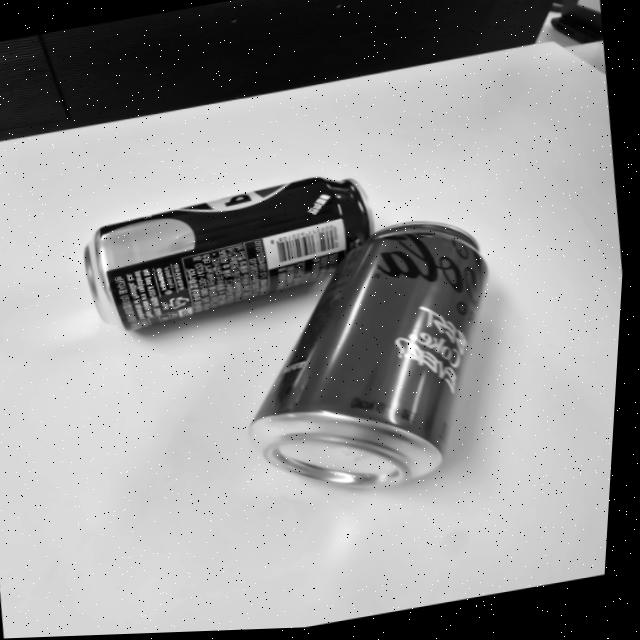can_coke_zero: (244, 220, 490, 495)
can_pepsi_zero: (78, 178, 370, 330)
